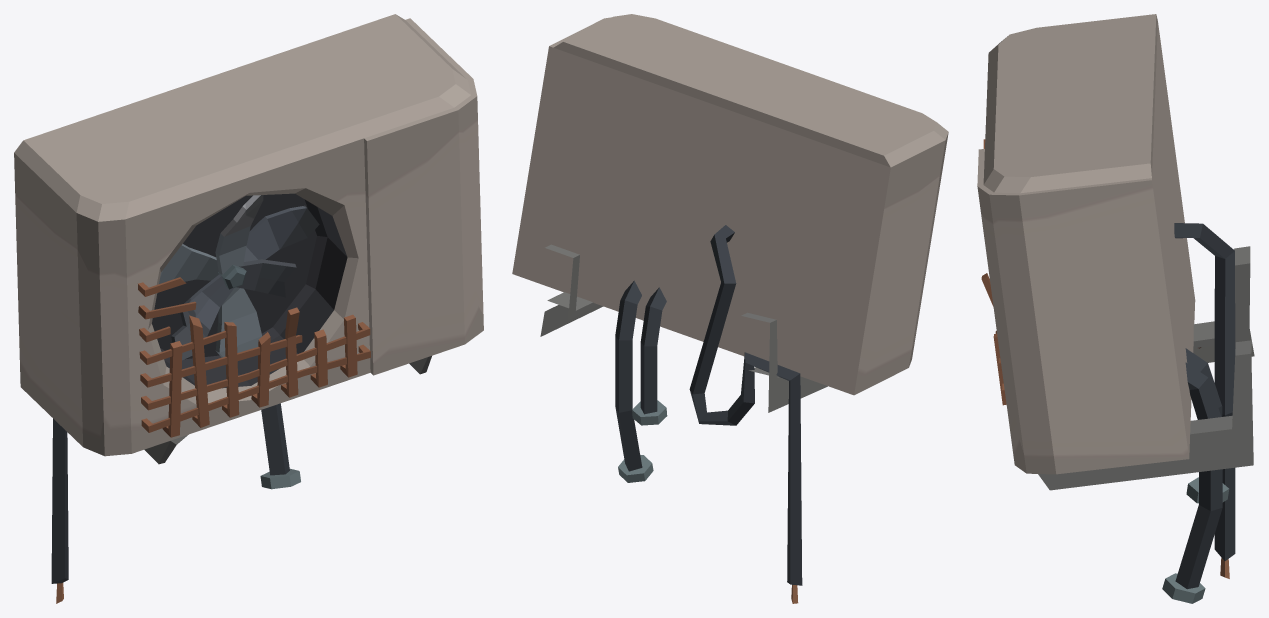
Rendered from SM_Air_Conditioner.gltf.
3 views of the same model, side by side, from view 1: azimuth 30°, elevation 25°; view 2: azimuth 150°, elevation 25°; view 3: azimuth 270°, elevation 25° (orthographic). The views are drawn at different scales.
Visible parts, largest first — view 1: SM_Air_Conditioner; view 2: SM_Air_Conditioner; view 3: SM_Air_Conditioner.
Boxes of the visible parts, box(x1,y1,x2,y2) form: SM_Air_Conditioner: box(14, 14, 483, 603); SM_Air_Conditioner: box(512, 14, 948, 603); SM_Air_Conditioner: box(977, 14, 1254, 603).
Bounding box in the file's own units: 0.9698 × 1.2 × 0.5299.
Materials: 1 (1 with a texture image).
